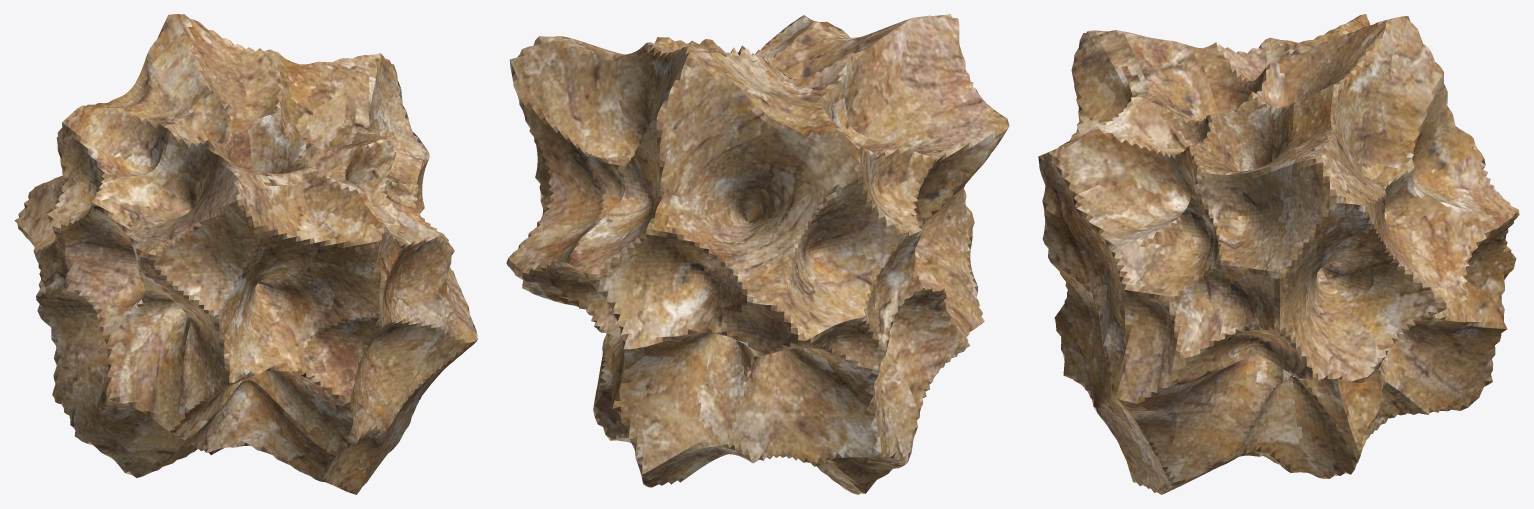
Rendered from meteor2.fbx.
3 views of the same model, side by side, from view 1: azimuth 30°, elevation 25°; view 2: azimuth 150°, elevation 25°; view 3: azimuth 270°, elevation 25° (orthographic). The views are drawn at different scales.
Visible parts, largest first — view 1: Cube; view 2: Cube; view 3: Cube.
Boxes of the visible parts, bbox=[...] form: Cube: bbox=[14, 14, 477, 494]; Cube: bbox=[506, 14, 1009, 494]; Cube: bbox=[1038, 14, 1519, 494].
Size of the model in its own units: 210 by 227 by 225.
